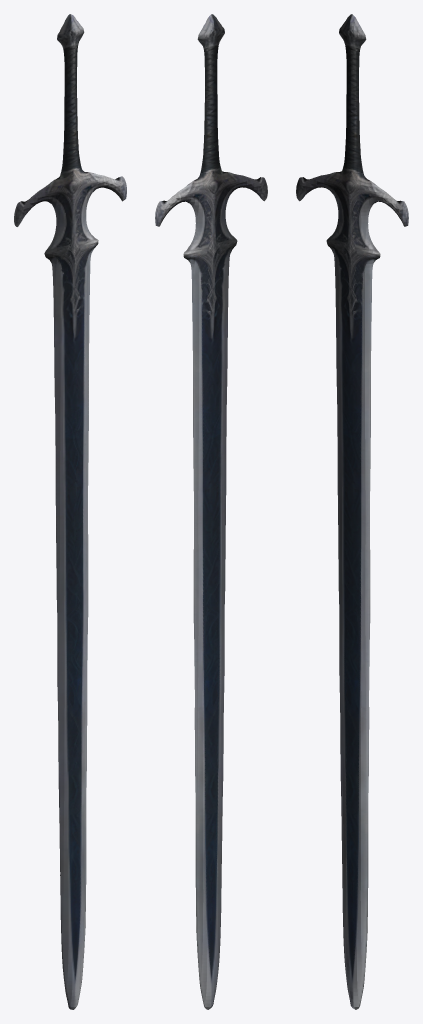
File: drow_sword.glb
3 renders of one model, left to right at view 1: azimuth 30°, elevation 25°; view 2: azimuth 210°, elevation 25°; view 3: azimuth 330°, elevation 25°, orthographic.
Parts seen in each view (by area): view 1: Grid; view 2: Grid; view 3: Grid.
Part boxes in pixels (box(x1,y1,x2,y2)): Grid: box(14, 14, 126, 1009); Grid: box(155, 14, 267, 1009); Grid: box(296, 14, 408, 1009).
Bounding box in the file's own units: 0.4577 × 3.86 × 0.0433.
1 material, 1 textured.
